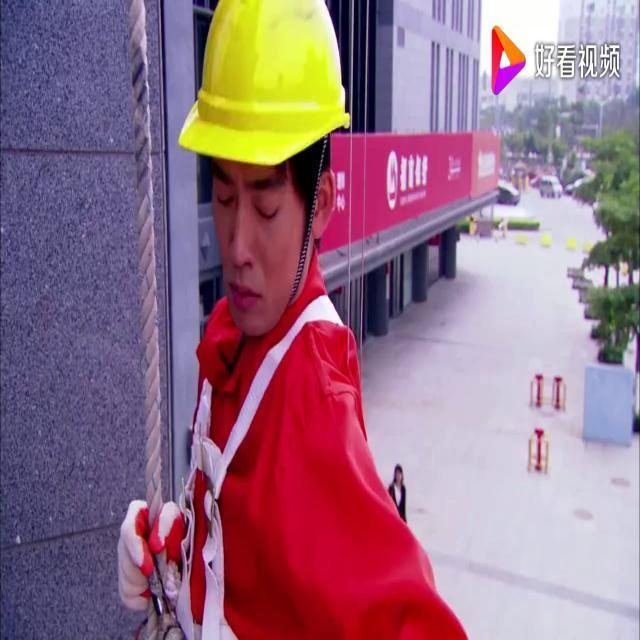Arnes_seguridad: (172, 265, 352, 639)
